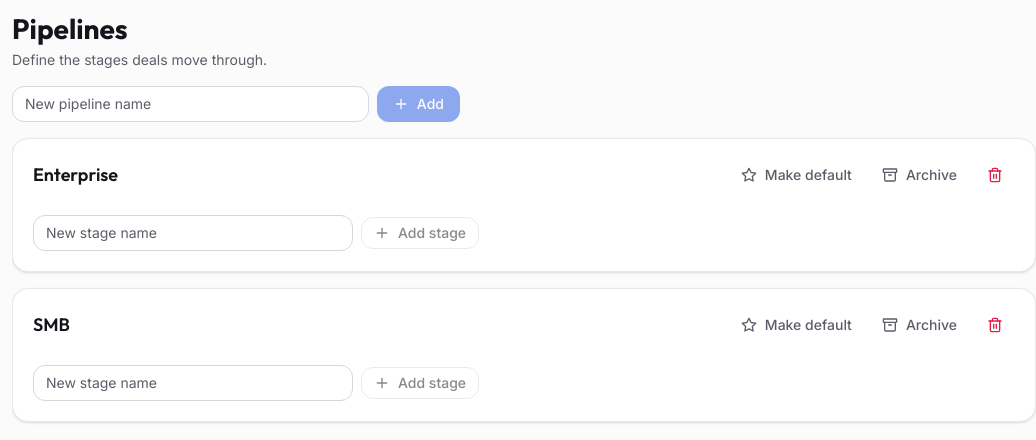
it: PipelineSettingsPage › archiving one pipeline does not disable the other pipelines’ archive buttons
The width and height of the screenshot is (1036, 440).
Expected: the heading "SMB" is shown, [33,313,70,337]
Click the button "Archive" in the row of "Enterprise".
click(919, 175)  # box [870,159,969,191]
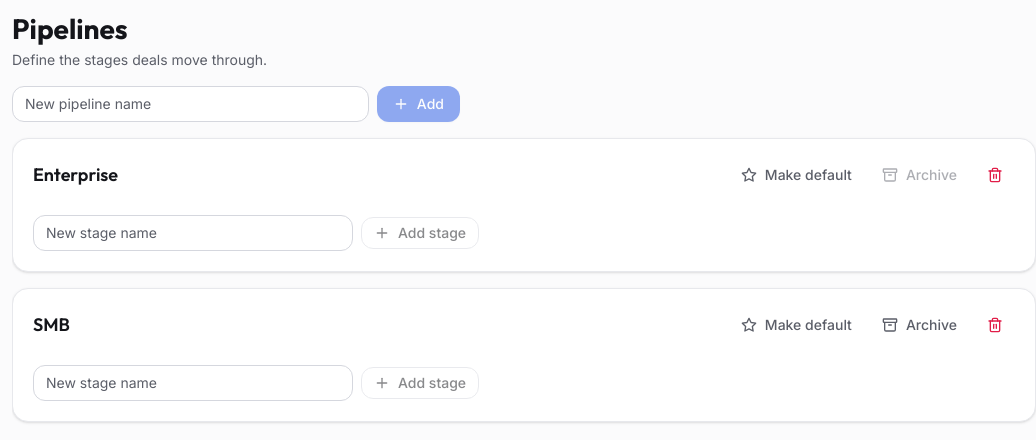
Expected: the button "Archive" in the row of "SMB" is enabled, [870,309,969,341]
Expected: the button "Archive" in the row of "Enterprise" is disabled, [870,159,969,191]
